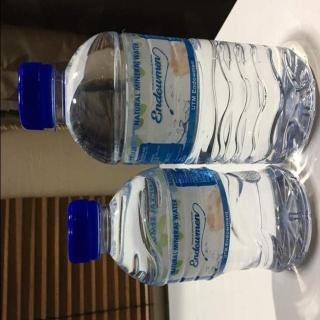Anorganik: (15, 34, 318, 157), (60, 168, 312, 289)
